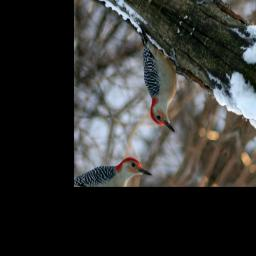Woodpecker: (107, 25, 208, 137)
